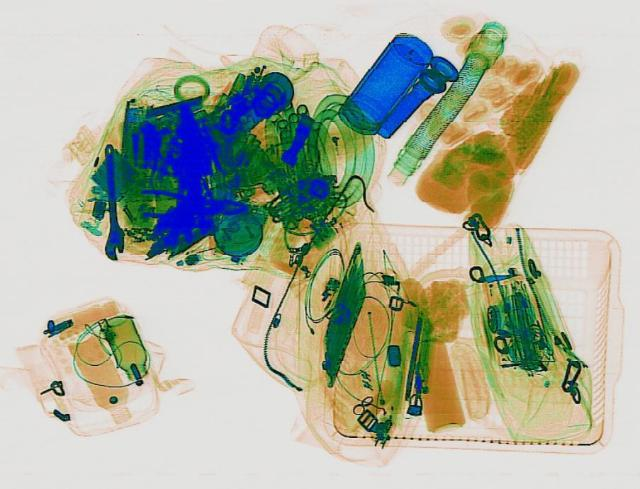Wrench: (95, 143, 125, 258)
